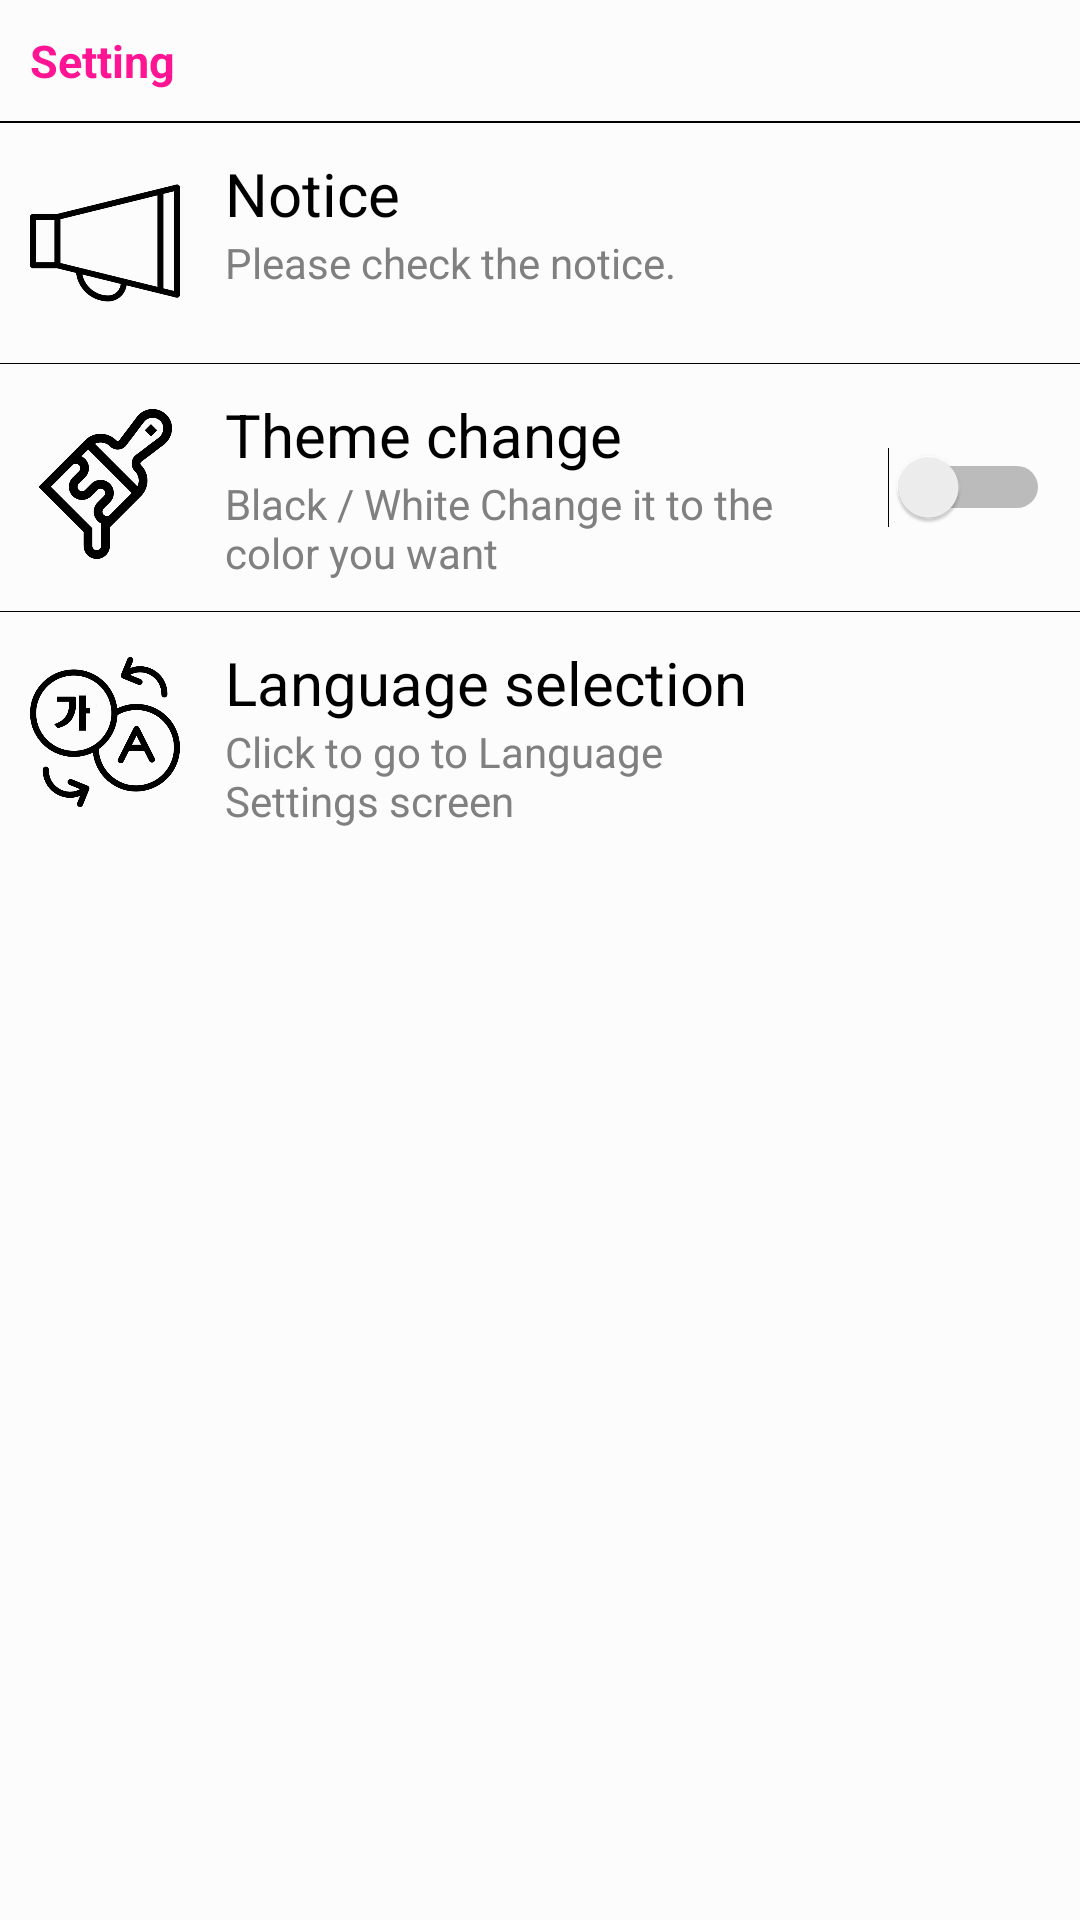

Where to tap for icons on this 1080w x 1920h app screen, as point (x, y):
lagig: point (105, 732)
